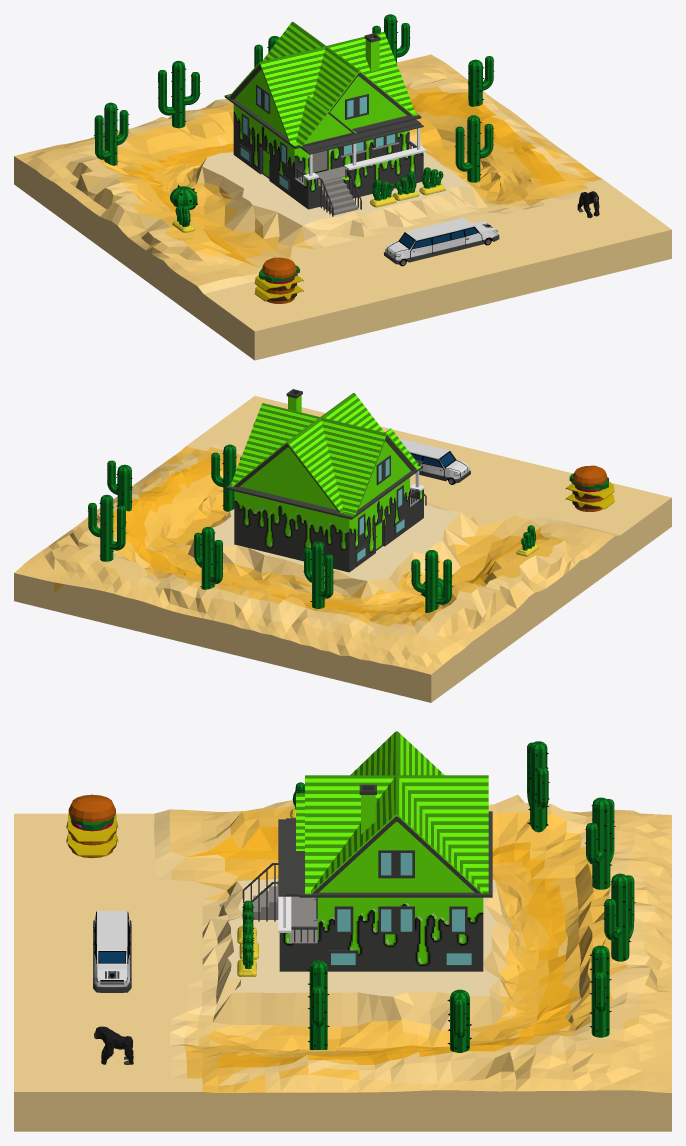
3 renders of one model, top to bottom at view 1: azimuth 30°, elevation 25°; view 2: azimuth 150°, elevation 25°; view 3: azimuth 270°, elevation 25°, orthographic. The views are drawn at different scales.
Visible parts, largest first — view 1: Cube.001, Cube.754, VEHICLES_LIMOUSINE, OBJRANDOM_HAMBURGER, Cylinder.037, Cylinder.044, Cylinder.045, Cylinder.038, Cylinder.042, Cylinder.039, Cylinder.041, Sphere.023 (+1 smaller); view 2: Cube.001, Cube.754, OBJRANDOM_HAMBURGER, Cylinder.042, VEHICLES_LIMOUSINE, Cylinder.045, Cylinder.044, Cylinder.043, Cylinder.037, Cylinder.038; view 3: Cube.001, Cube.754, VEHICLES_LIMOUSINE, OBJRANDOM_HAMBURGER, Cylinder.043, Cylinder.044, Cylinder.045, Cylinder.042, Cylinder.037, Cylinder.038, ANIMAL_GORILA, Cylinder.041.
Boxes of the visible parts, <box> form: Cube.001: <box>14,54,671,360</box>; Cube.754: <box>224,21,426,216</box>; VEHICLES_LIMOUSINE: <box>384,217,499,266</box>; OBJRANDOM_HAMBURGER: <box>254,257,303,303</box>; Cylinder.037: <box>454,115,493,182</box>; Cylinder.044: <box>158,60,200,128</box>; Cylinder.045: <box>94,102,129,165</box>; Cylinder.038: <box>468,56,494,106</box>; Cylinder.042: <box>372,14,410,63</box>; Cylinder.039: <box>370,179,396,207</box>; Cylinder.041: <box>419,167,445,195</box>; Sphere.023: <box>170,185,197,209</box>; Cube.001: <box>14,396,671,702</box>; Cube.754: <box>226,389,426,572</box>; OBJRANDOM_HAMBURGER: <box>565,465,614,511</box>; Cylinder.042: <box>88,494,126,561</box>; VEHICLES_LIMOUSINE: <box>399,438,470,484</box>; Cylinder.045: <box>411,550,452,612</box>; Cylinder.044: <box>303,541,333,608</box>; Cylinder.043: <box>194,526,222,589</box>; Cylinder.037: <box>211,444,241,511</box>; Cylinder.038: <box>107,460,132,511</box>; Cube.001: <box>14,794,671,1131</box>; Cube.754: <box>242,731,492,971</box>; VEHICLES_LIMOUSINE: <box>93,911,131,992</box>; OBJRANDOM_HAMBURGER: <box>66,794,118,858</box>; Cylinder.043: <box>603,873,635,961</box>; Cylinder.044: <box>585,797,615,889</box>; Cylinder.045: <box>527,741,549,832</box>; Cylinder.042: <box>589,945,611,1037</box>; Cylinder.037: <box>307,960,329,1049</box>; Cylinder.038: <box>447,989,471,1052</box>; ANIMAL_GORILA: <box>94,1026,133,1064</box>; Cylinder.041: <box>237,933,256,976</box>.
Bounding box in the file's own units: 4002 × 1599 × 4001.
Materials: 32 (3 with a texture image).
